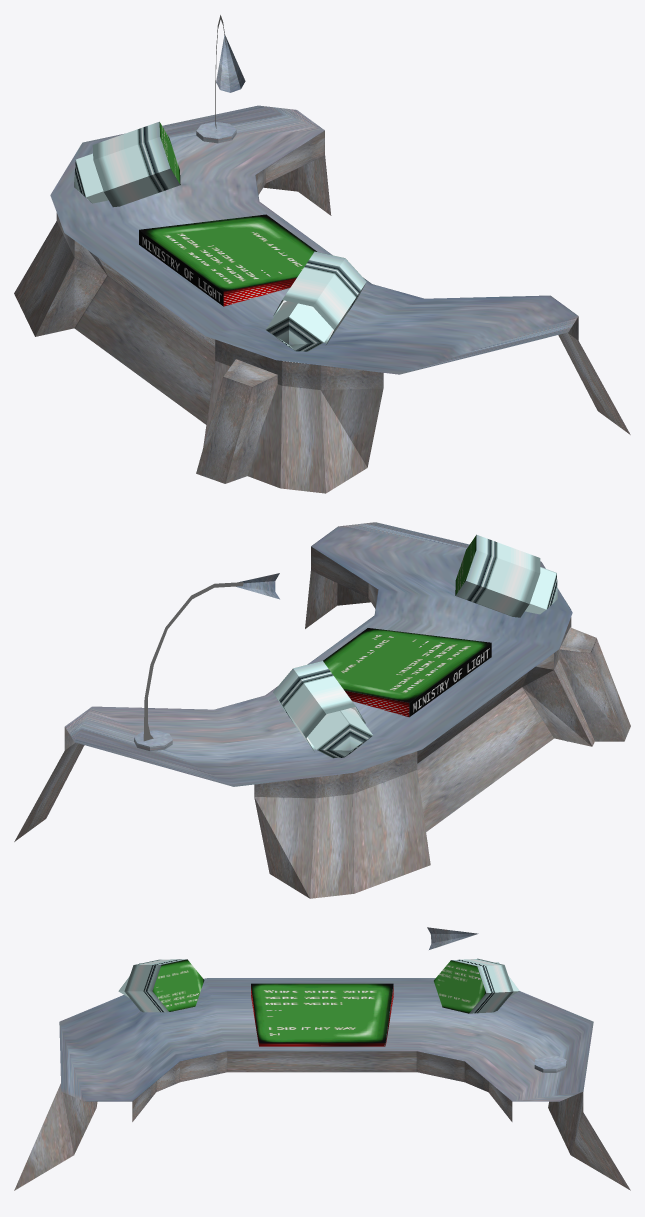
The model's file is Ministerium_Schreibtisch_2504.glb.
3 views of the same model, one above another, from view 1: azimuth 30°, elevation 25°; view 2: azimuth 150°, elevation 25°; view 3: azimuth 270°, elevation 25° (orthographic). The views are drawn at different scales.
Visible parts, largest first — view 1: pPlaneShape45, pPlaneShape2, pPlaneShape44, pPlaneShape15, pPlaneShape16, pCylinderShape2, pPlaneShape17, pCylinderShape3, pPlaneShape4, pPlaneShape20, pPlaneShape3, pSphereShape2 (+11 smaller); view 2: pPlaneShape45, pPlaneShape2, pPlaneShape4, pPlaneShape44, pPlaneShape6, pPlaneShape5, pCylinderShape3, pCylinderShape2, pPlaneShape19, pPlaneShape18, pSphereShape1, pPlaneShape10 (+12 smaller); view 3: pPlaneShape45, pPlaneShape44, pPlaneShape26, pPlaneShape13, pPlaneShape38, pPlaneShape39, pPlaneShape8, pCylinderShape2, pCylinderShape3, pPlaneShape7, pPlaneShape14, pPlaneShape27 (+8 smaller).
Boxes of the visible parts, x1,y1,x2,y2 form: pPlaneShape45: (50, 105, 578, 374); pPlaneShape2: (74, 275, 215, 424); pPlaneShape44: (139, 214, 316, 291); pPlaneShape15: (320, 365, 383, 493); pPlaneShape16: (280, 361, 325, 493); pCylinderShape2: (92, 121, 180, 207); pPlaneShape17: (203, 339, 281, 487); pCylinderShape3: (273, 251, 366, 344); pPlaneShape4: (14, 213, 74, 336); pPlaneShape20: (196, 377, 252, 483); pPlaneShape3: (35, 257, 107, 336); pSphereShape2: (265, 301, 332, 351); pPlaneShape45: (65, 522, 572, 786); pPlaneShape2: (417, 687, 553, 831); pPlaneShape4: (352, 751, 430, 893); pPlaneShape44: (323, 628, 491, 702); pPlaneShape6: (254, 777, 315, 898); pPlaneShape5: (310, 773, 354, 898); pCylinderShape3: (455, 535, 540, 617); pCylinderShape2: (273, 661, 365, 751); pPlaneShape19: (559, 649, 624, 741); pPlaneShape18: (522, 670, 591, 746); pSphereShape1: (307, 708, 372, 758); pPlaneShape10: (14, 727, 84, 841); pPlaneShape45: (59, 978, 593, 1101); pPlaneShape44: (251, 983, 393, 1043); pPlaneShape26: (227, 1051, 417, 1072); pPlaneShape13: (14, 1083, 73, 1190); pPlaneShape38: (434, 960, 485, 1013); pPlaneShape39: (152, 959, 204, 1011); pPlaneShape8: (570, 1092, 630, 1190); pCylinderShape2: (451, 958, 513, 1013); pCylinderShape3: (124, 959, 186, 1012); pPlaneShape7: (548, 1092, 581, 1154); pPlaneShape14: (63, 1092, 96, 1154); pPlaneShape27: (417, 1051, 464, 1082).
Bounding box in the file's own units: 0.3829 × 0.2532 × 0.6644.
46 materials, 45 textured.
